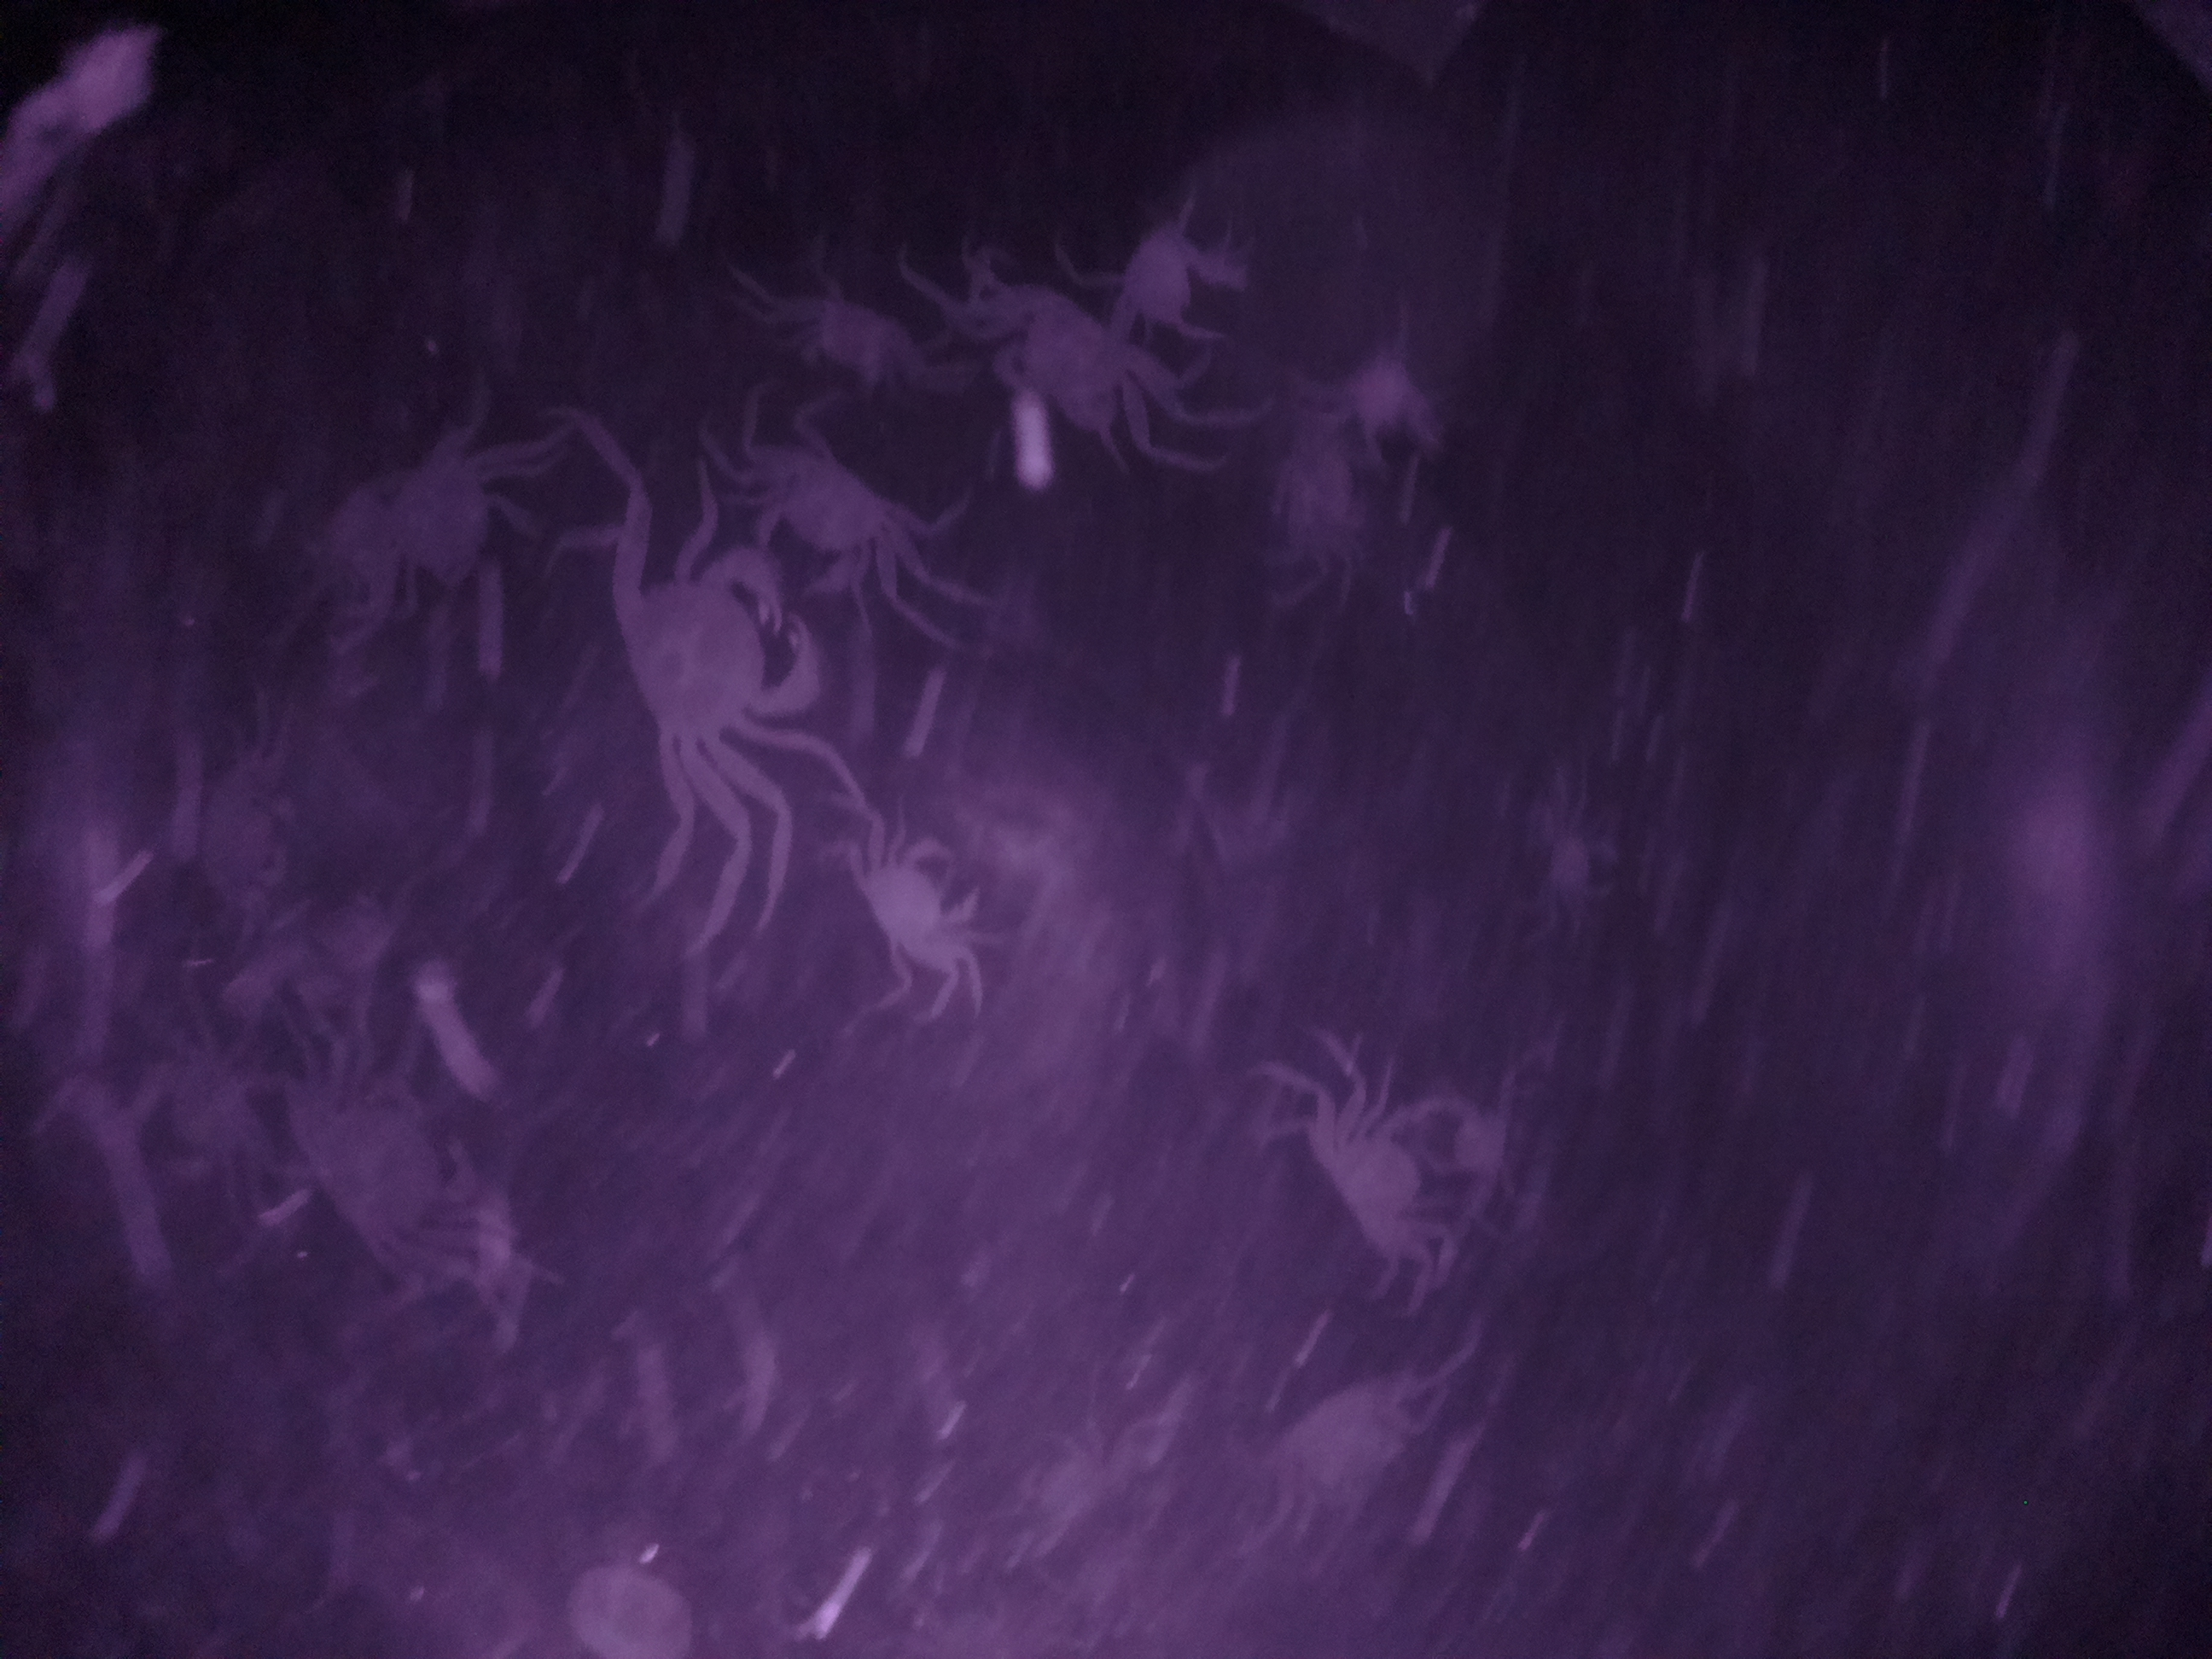Crab: (587, 519, 817, 803), (730, 434, 935, 608), (982, 270, 1163, 467), (1299, 1080, 1442, 1281), (845, 819, 993, 988)
